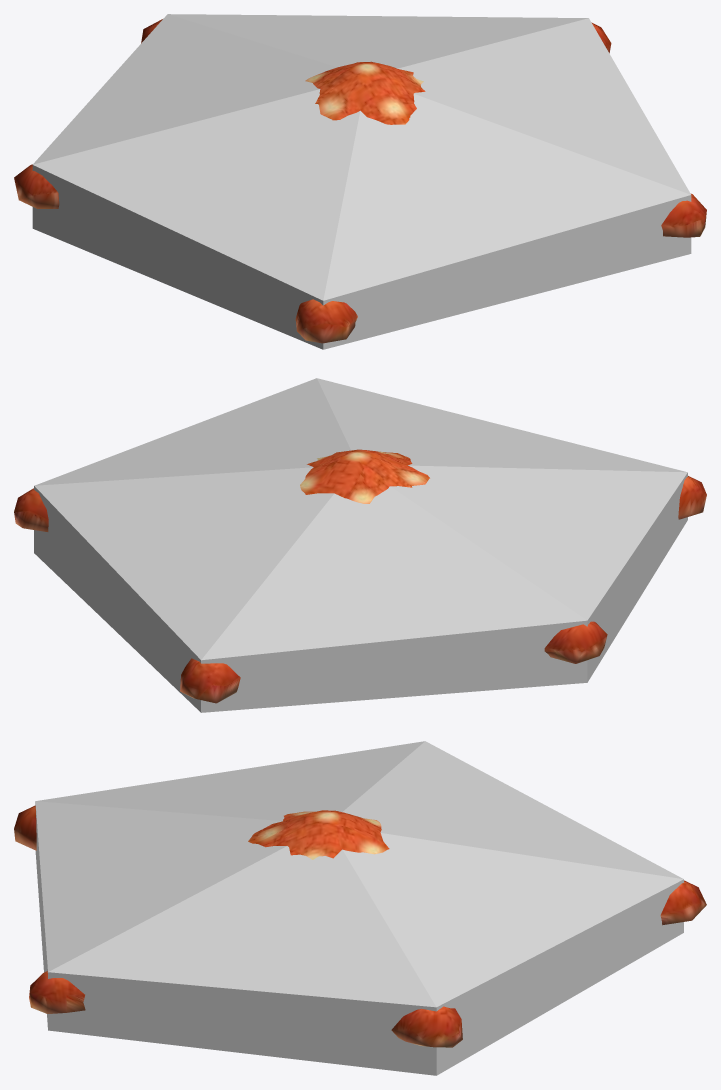
The model's file is IO_Starfish_A.glb.
The picture shows the model from 3 angles, top to bottom: view 1: azimuth 30°, elevation 25°; view 2: azimuth 150°, elevation 25°; view 3: azimuth 270°, elevation 25°; orthographic projection. The views are drawn at different scales.
Visible parts, largest first — view 1: IO_Starfish_A_COL, IO_Starfish_A_LOD0; view 2: IO_Starfish_A_COL, IO_Starfish_A_LOD0; view 3: IO_Starfish_A_COL, IO_Starfish_A_LOD0.
Boxes of the visible parts, x1,y1,x2,y2 form: IO_Starfish_A_COL: (32,14,691,349); IO_Starfish_A_LOD0: (14,19,706,343); IO_Starfish_A_COL: (34,378,687,712); IO_Starfish_A_LOD0: (14,449,706,703); IO_Starfish_A_COL: (35,741,683,1075); IO_Starfish_A_LOD0: (14,805,706,1047).
Size of what is drawn, in the model's own units: 0.2371 by 0.0491 by 0.2414.
1 material, 1 textured.
